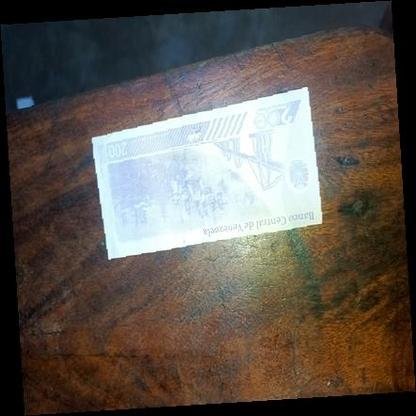two_hundred-back-vef: (91, 85, 324, 261)
